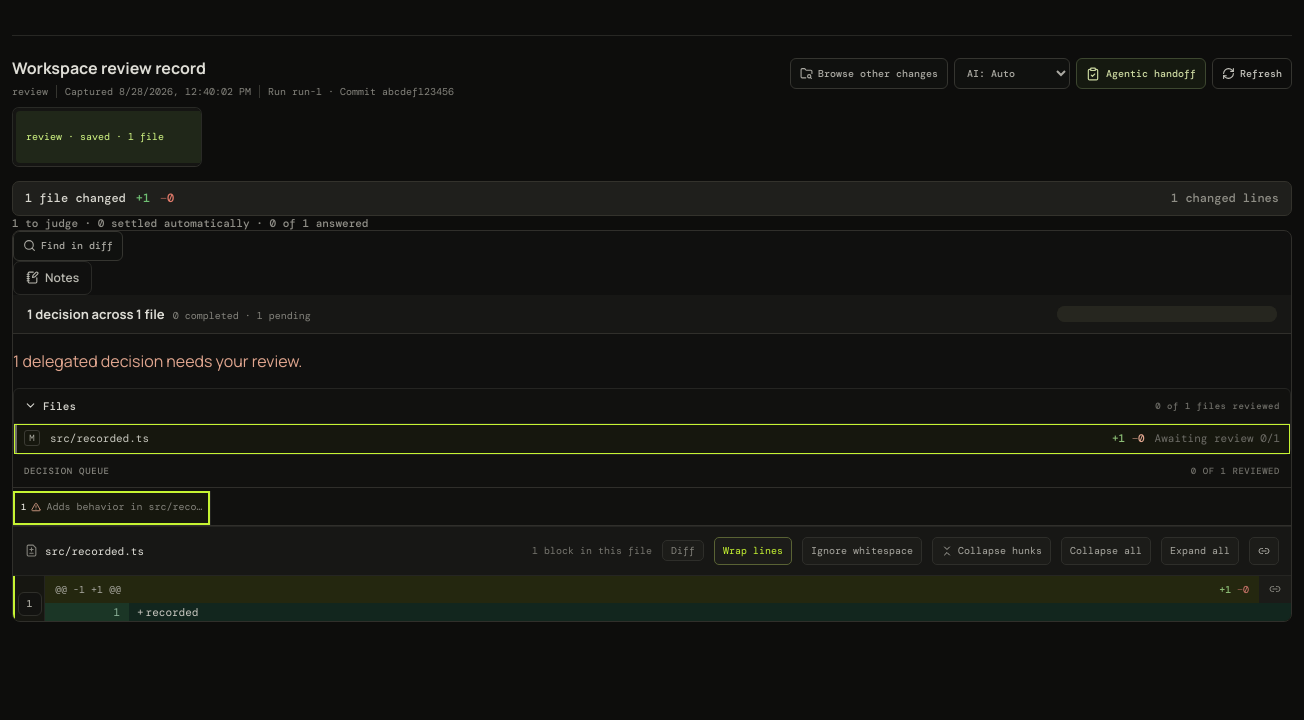
WorkspaceDiffView decision queue › keeps the repository picker reachable on a clean checkout that has recorded versions
Expected: the heading "Workspace review record" is shown, [12,57,206,79]
// ...and the complete repository browser remains reachable on demand.
Click the button "Browse other changes" at [869, 74], box [790,58,948,89]
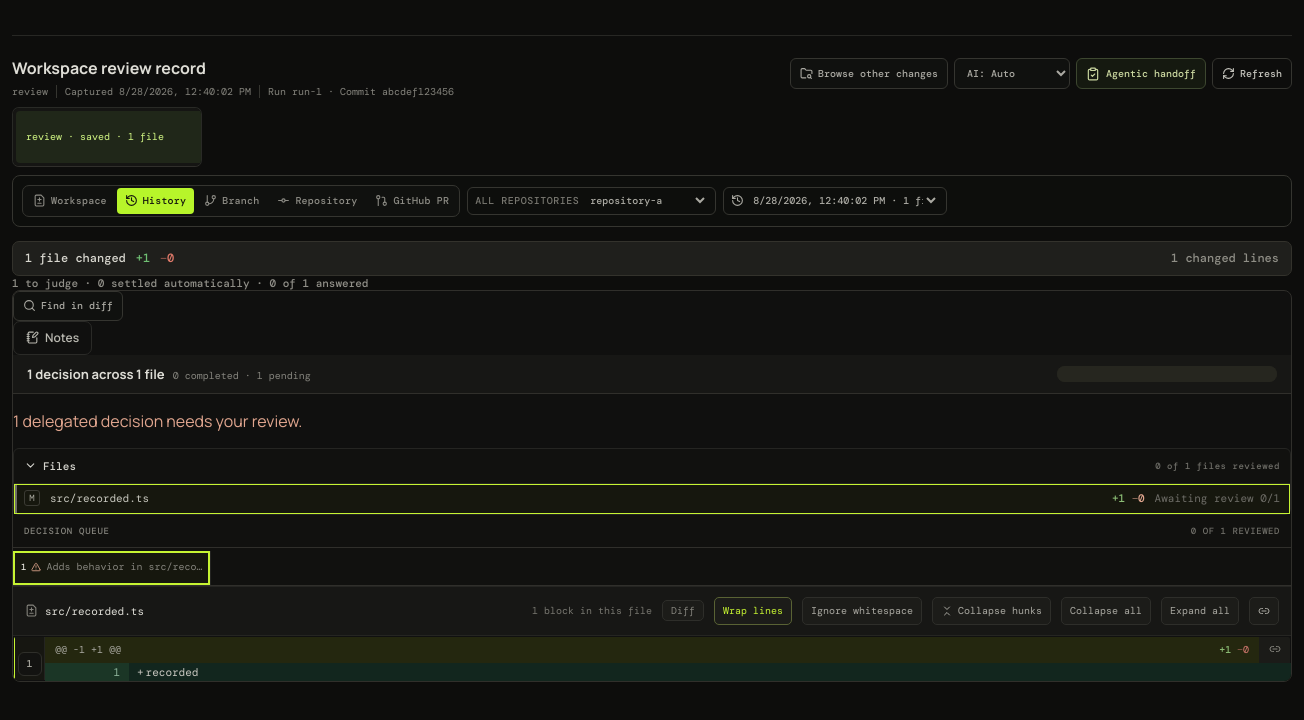
Expected: the dropdown labelled "All repositories" shows "repository-a"
Select "repository-b" in the dropdown labelled "All repositories" at [647, 201], box [586,193,708,208]
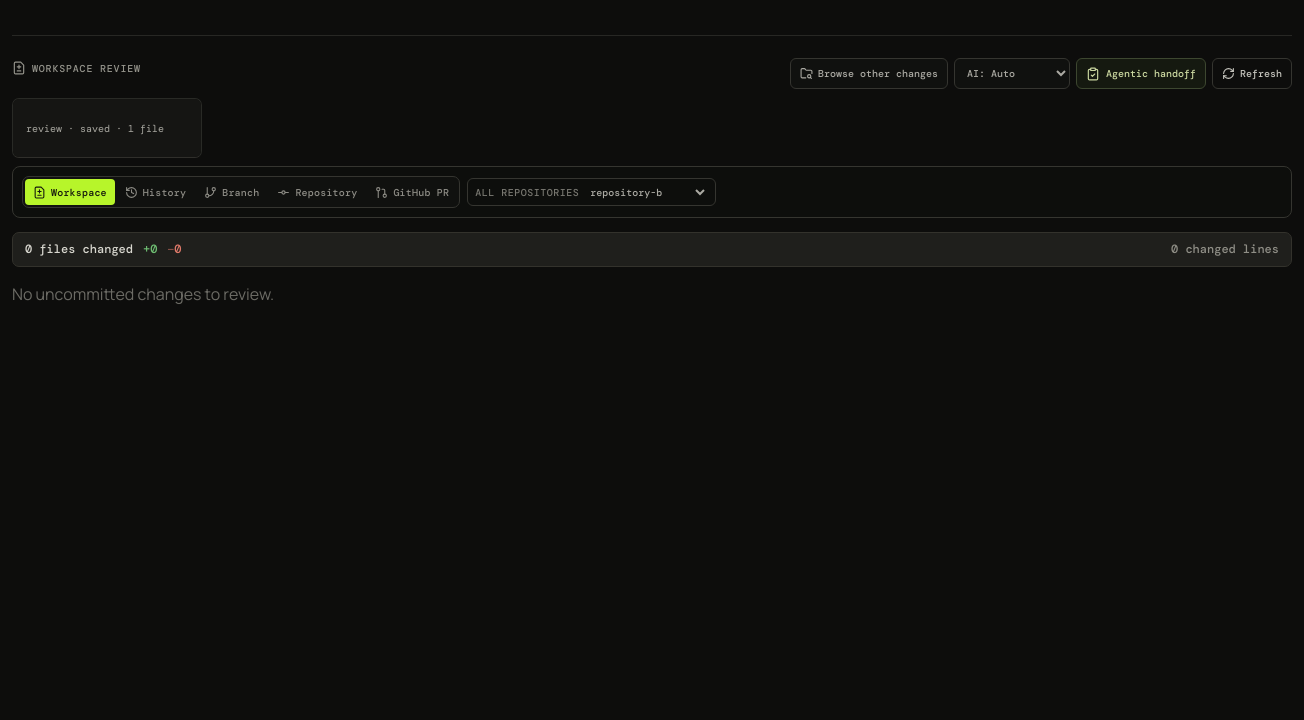
Expected: the dropdown labelled "All repositories" shows "repository-b", [586,184,708,200]
Expected: the heading "Workspace review record" is gone
